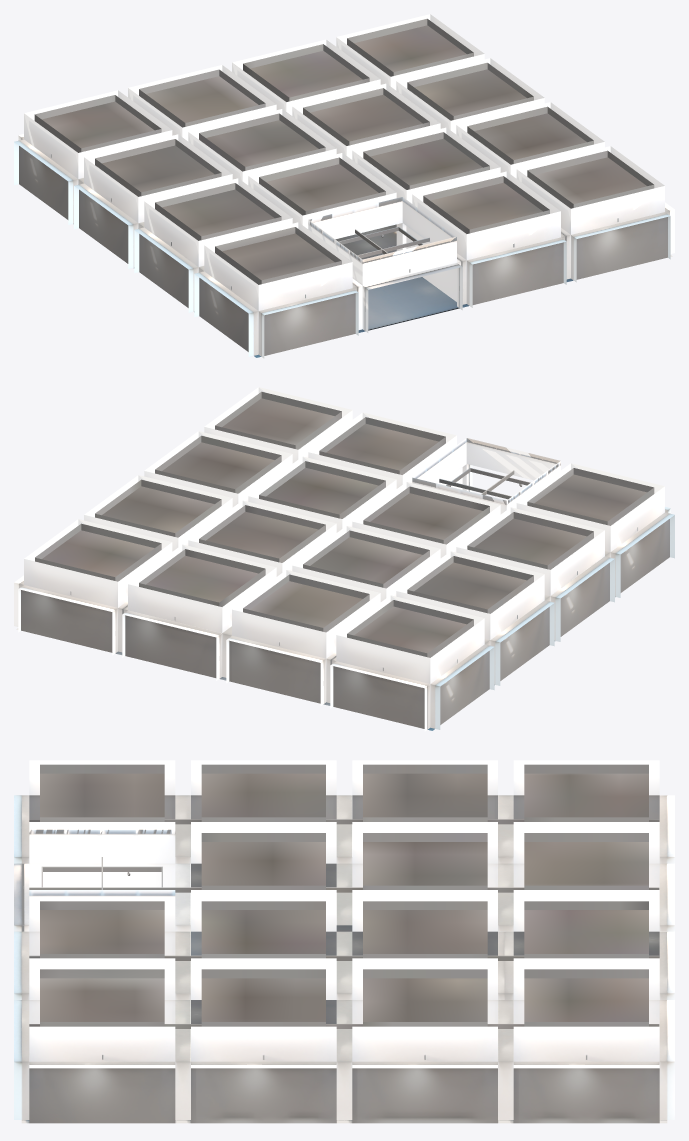
File: SceneModel.glb
3 views of the same model, one above another, from view 1: azimuth 30°, elevation 25°; view 2: azimuth 150°, elevation 25°; view 3: azimuth 270°, elevation 25° (orthographic). The views are drawn at different scales.
Parts seen in each view (by area): view 1: ceiling, walls, floor; view 2: ceiling, walls, floor; view 3: ceiling, walls, floor.
Part boxes in pixels (box(x1,y1,x2,y2)): ceiling: box(34, 18, 654, 297); walls: box(14, 14, 674, 358); floor: box(19, 146, 672, 357); ceiling: box(35, 391, 654, 662); walls: box(14, 387, 674, 731); floor: box(16, 519, 669, 730); ceiling: box(29, 764, 659, 1028); walls: box(14, 760, 674, 1119); floor: box(21, 795, 667, 1123).
Size of the model in its own units: 51.2 by 8 by 51.2.
Materials: 4 (4 with a texture image).
